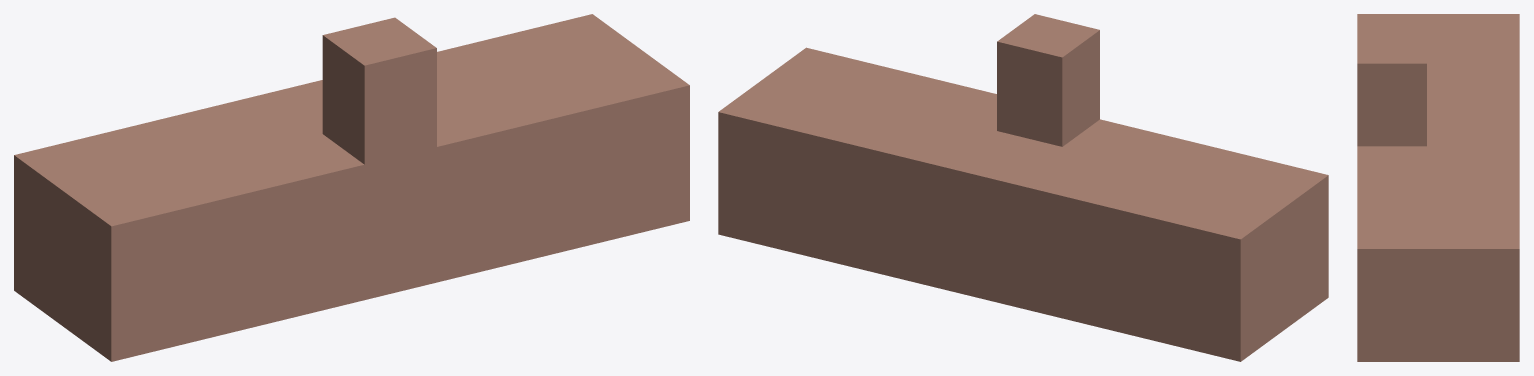
Rendered from rail-station.station-v1.lod2.glb.
The picture shows the model from 3 angles, left to right: view 1: azimuth 30°, elevation 25°; view 2: azimuth 150°, elevation 25°; view 3: azimuth 270°, elevation 25°; orthographic projection. The views are drawn at different scales.
Parts seen in each view (by area): view 1: rail-station; view 2: rail-station; view 3: rail-station.
Boxes of the visible parts, x1,y1,x2,y2 form: rail-station: [14, 14, 689, 361]; rail-station: [718, 14, 1328, 361]; rail-station: [1357, 14, 1519, 361].
Size of the model in its own units: 48 by 18.6 by 14.
